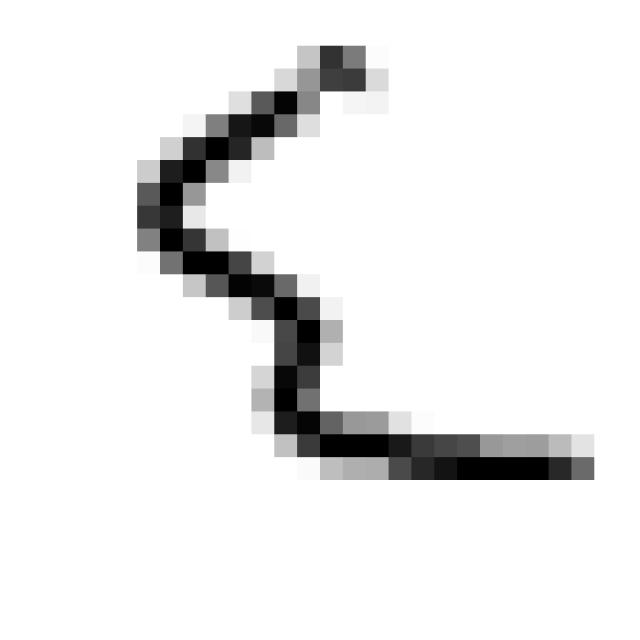4 -four-: (119, 30, 617, 507)
